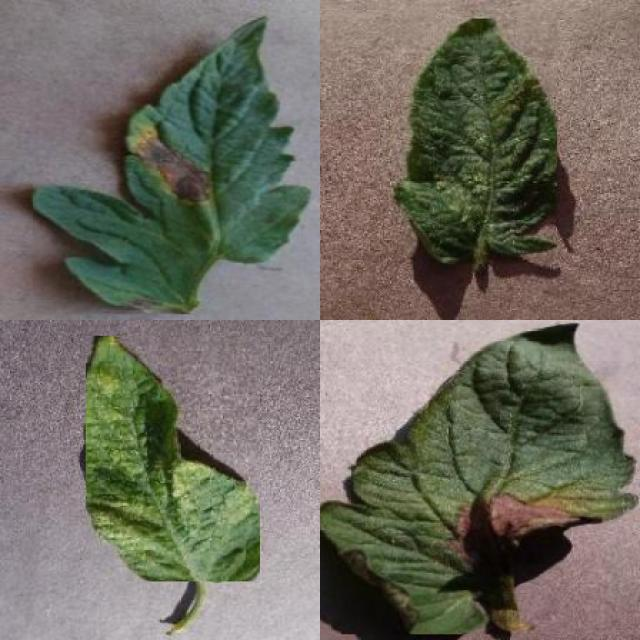Early Blight: (34, 10, 314, 314)
Late Blight: (320, 322, 639, 634)
Spider Mites: (86, 336, 260, 581), (394, 19, 557, 264)
